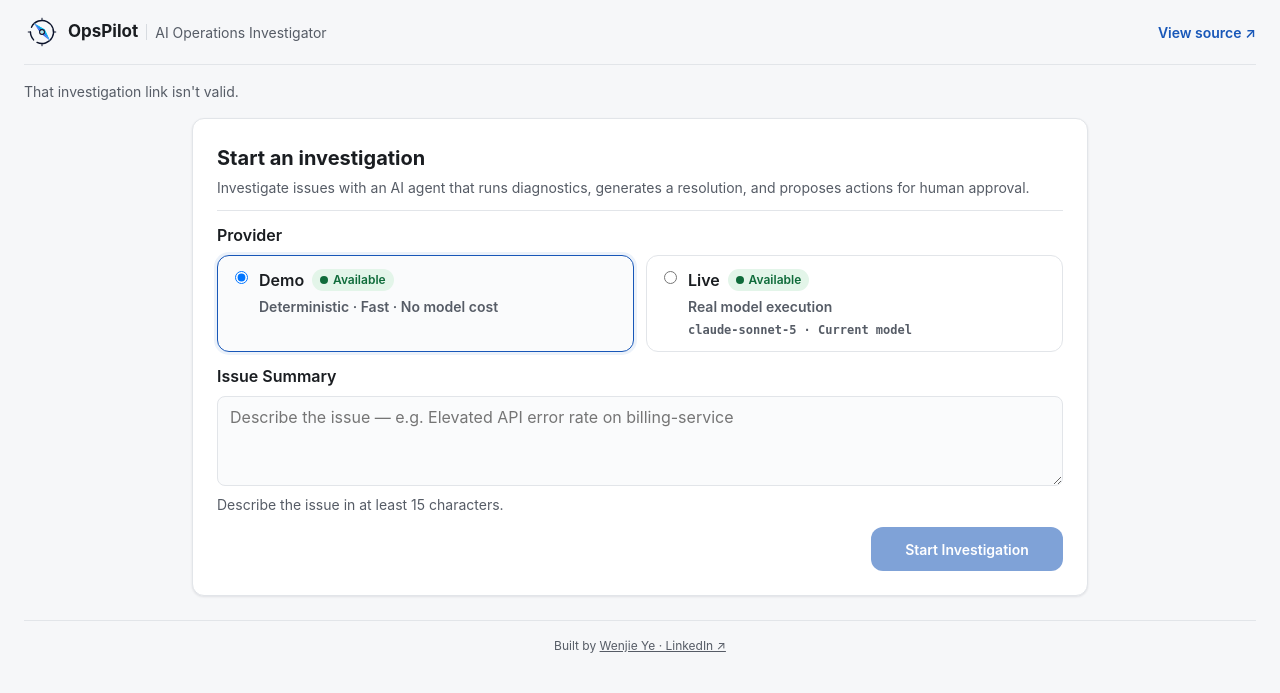
Scenario: LIVE partial failure — the retained job › presents the retained ticket and summary as facts, not editable fields
Type "Elevated error rate on billing" into the text box labelled "Issue Summary" at (640, 441), box [217, 396, 1063, 486]
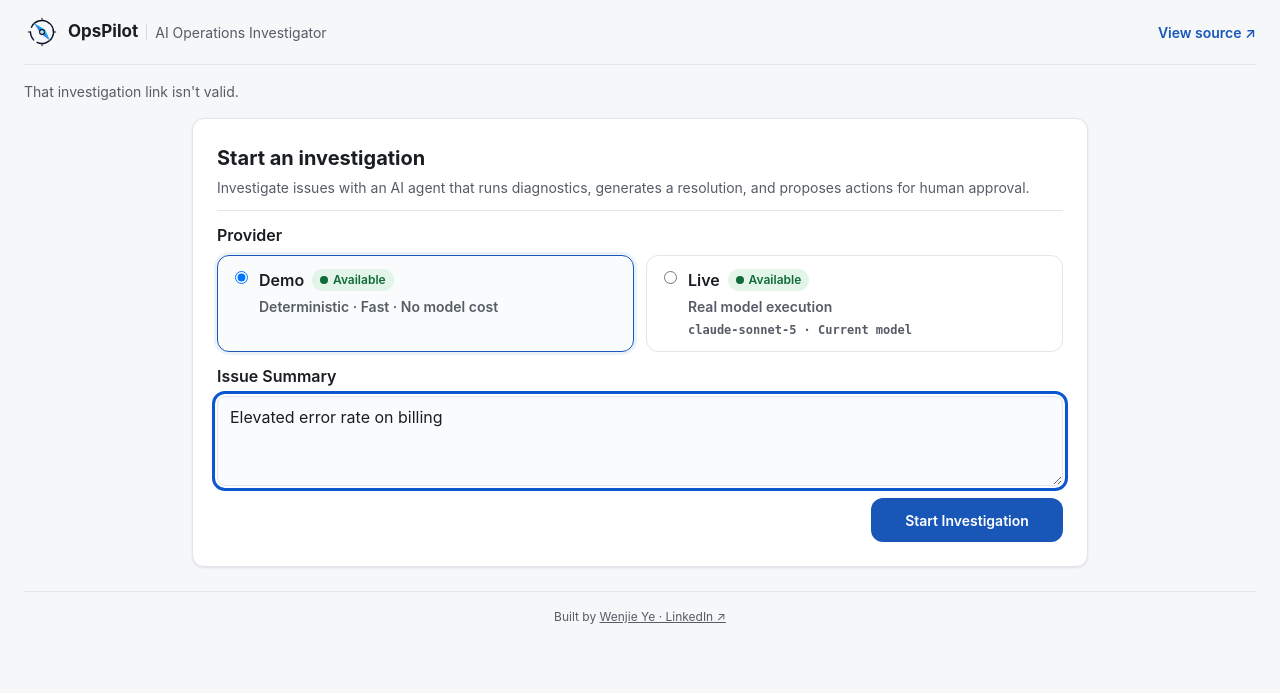
Click the radio button labelled "Live" at (670, 278), box [664, 271, 677, 284]
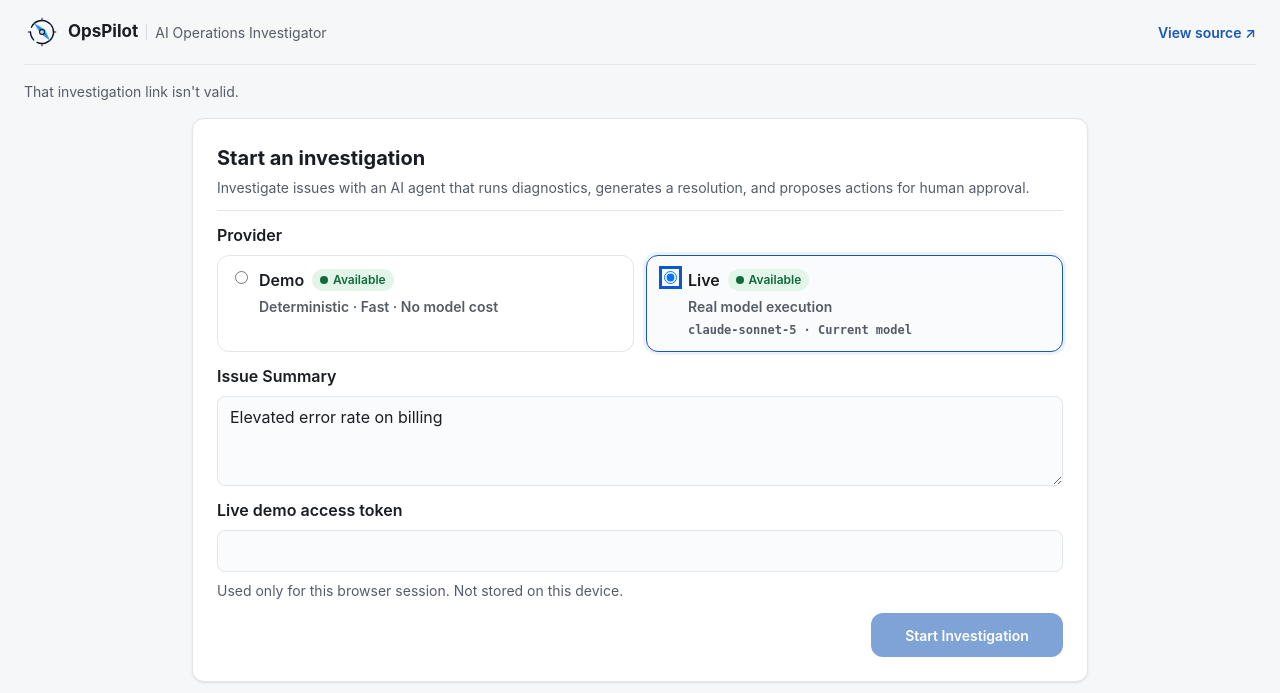
Type "demo-token-do-not-use-8f14e45fceea" into the password field labelled "Live demo access token" at (640, 551), box [217, 530, 1063, 572]
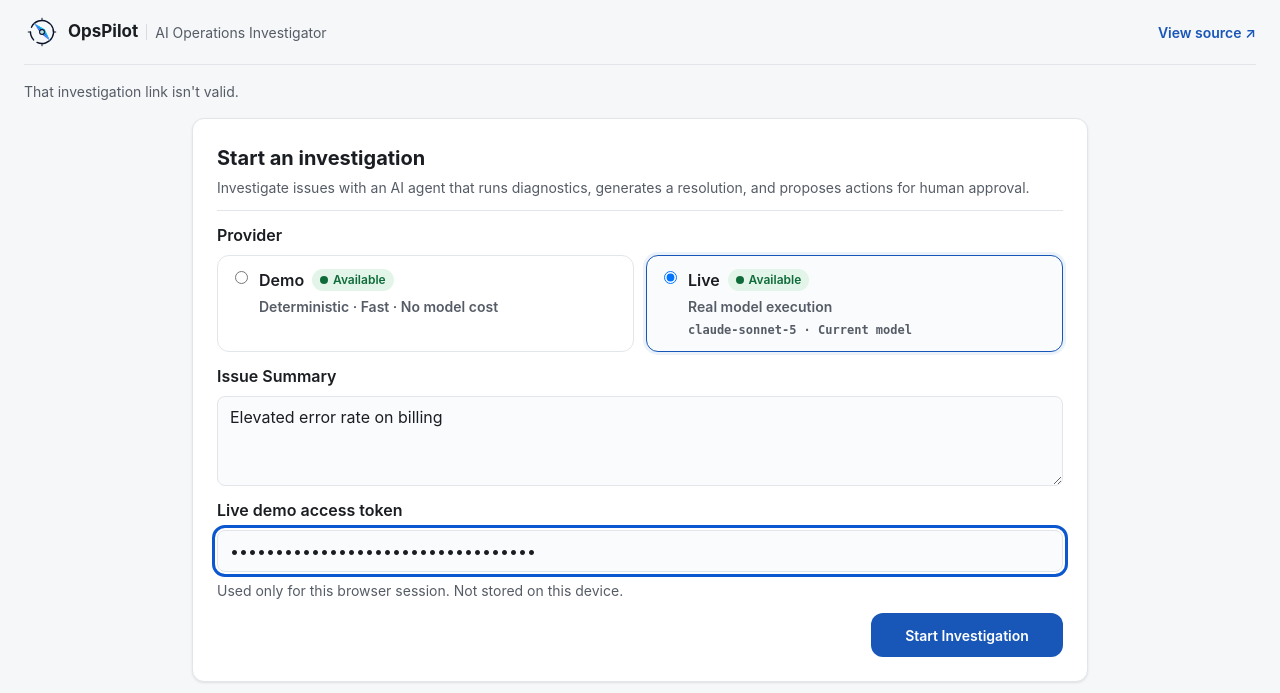
Click the button "Start Investigation" at (967, 635), box [871, 613, 1063, 657]
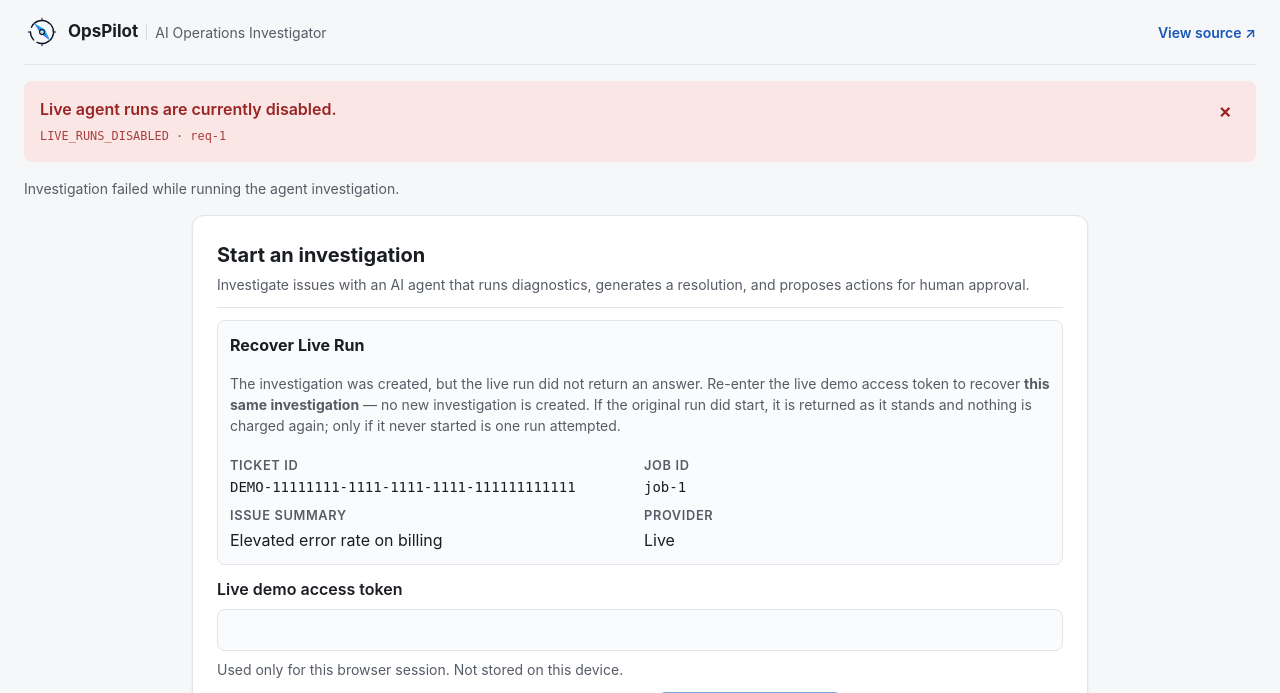
expect the heading "Recover Live Run" is shown: met, box [230, 335, 364, 355]
expect the text "Elevated error rate on billing" is shown: met, box [230, 530, 443, 550]
